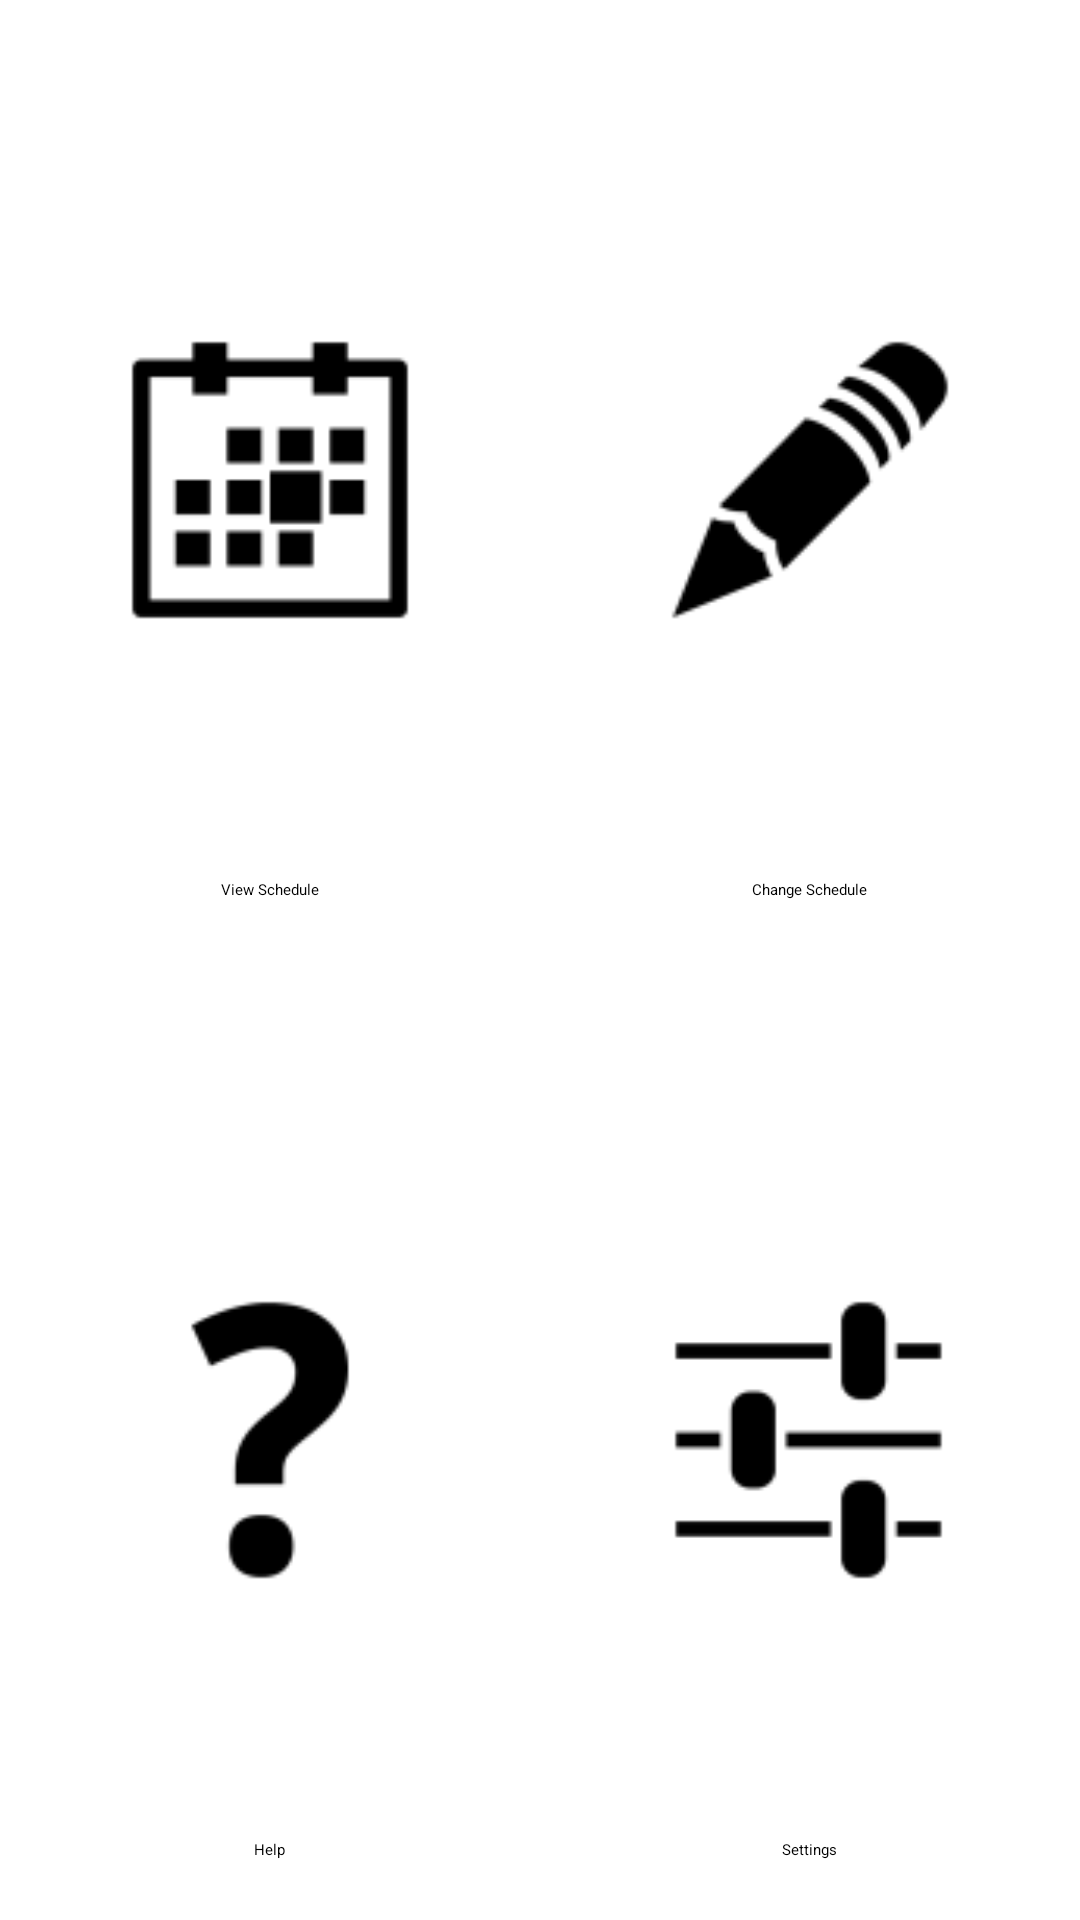

Screen size 1080 x 1920. Icon name, then its center in pixels as point (x, y):
change: point (810, 479)
help: point (270, 1440)
settings: point (808, 1440)
